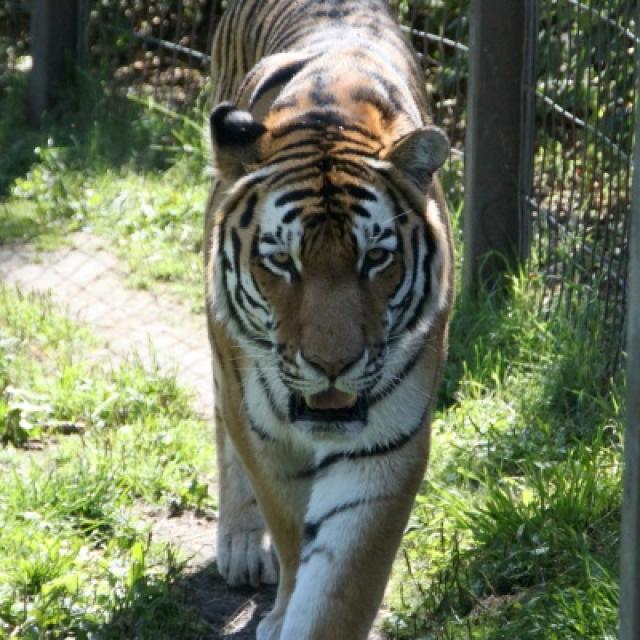Tiger: (219, 0, 452, 625)
